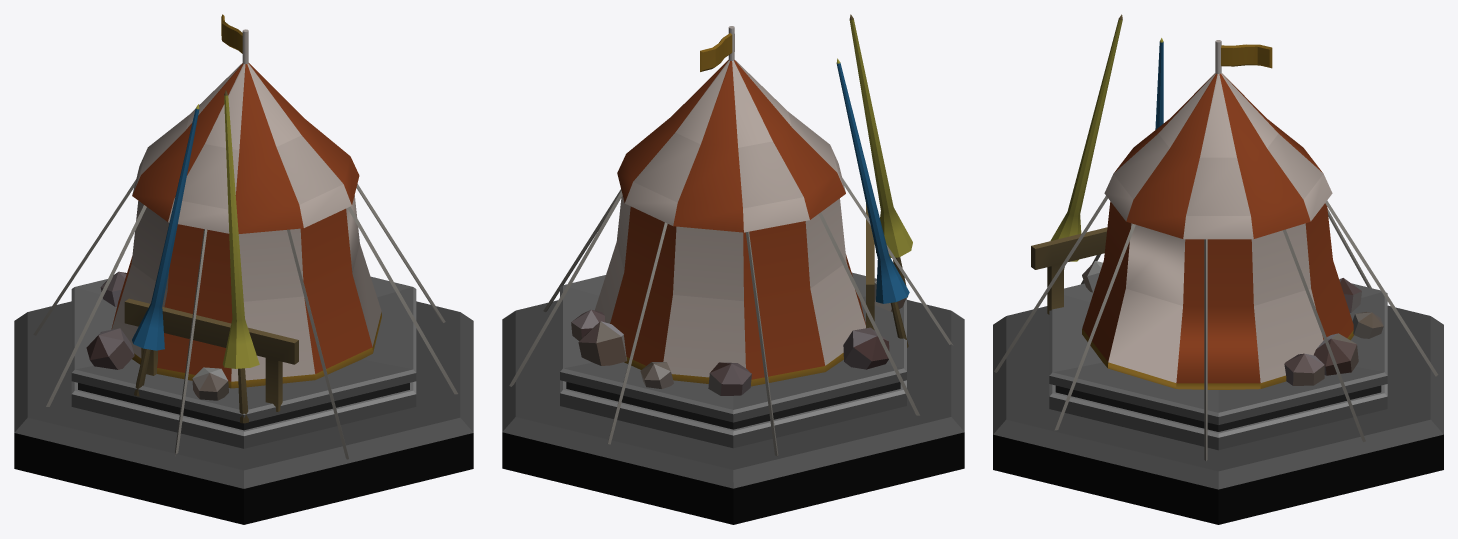
Rendered from tournamentGround.fbx.
3 views of the same model, side by side, from view 1: azimuth 30°, elevation 25°; view 2: azimuth 150°, elevation 25°; view 3: azimuth 270°, elevation 25° (orthographic). The views are drawn at different scales.
Visible parts, largest first — view 1: tournamentGround; view 2: tournamentGround; view 3: tournamentGround.
Part boxes in pixels (x1,y1,x2,y2): tournamentGround: [14, 14, 473, 524]; tournamentGround: [502, 14, 964, 524]; tournamentGround: [993, 14, 1443, 524].
Bounding box in the file's own units: 2 × 1.59 × 1.73.
